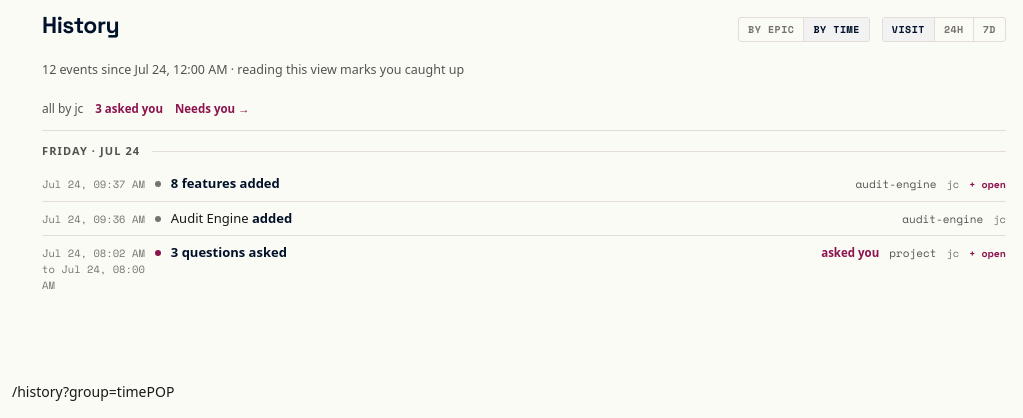
it: History view: the grouping toggle's own URL semantics › keeps the group param when switching windows
This screenshot has width=1023, height=418.
expect the text "12 events" is shown: met, box [42, 60, 464, 78]
Click the link "24h": point(953, 30) [934, 18, 973, 41]
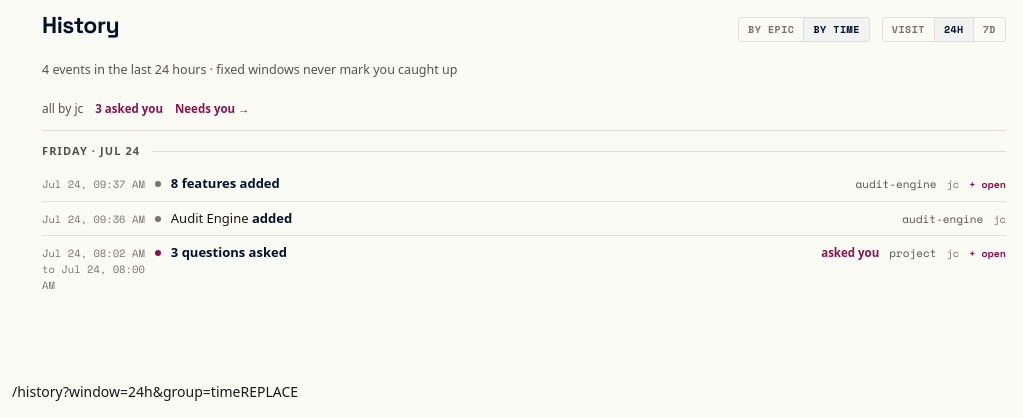
expect the text with test id "loc" reads "/history?window=24h&group=time": met, box [12, 382, 240, 400]
